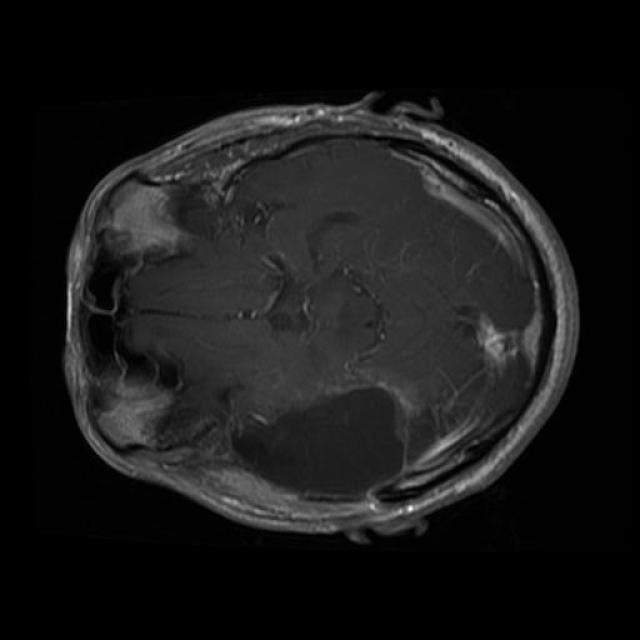Glioma: (239, 389, 401, 494)
